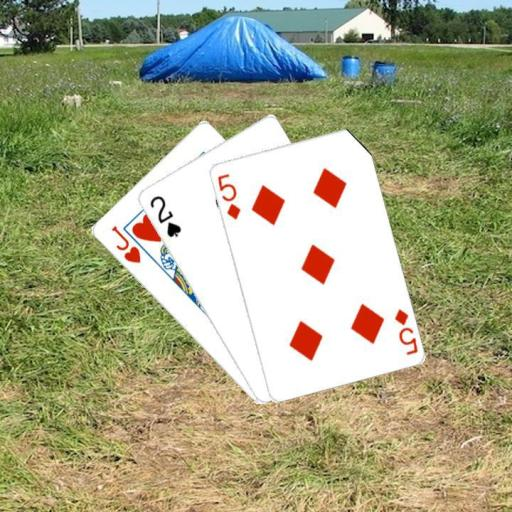2S: (146, 192, 183, 239)
5D: (213, 170, 242, 221), (391, 305, 419, 356)
JH: (108, 223, 143, 265)
